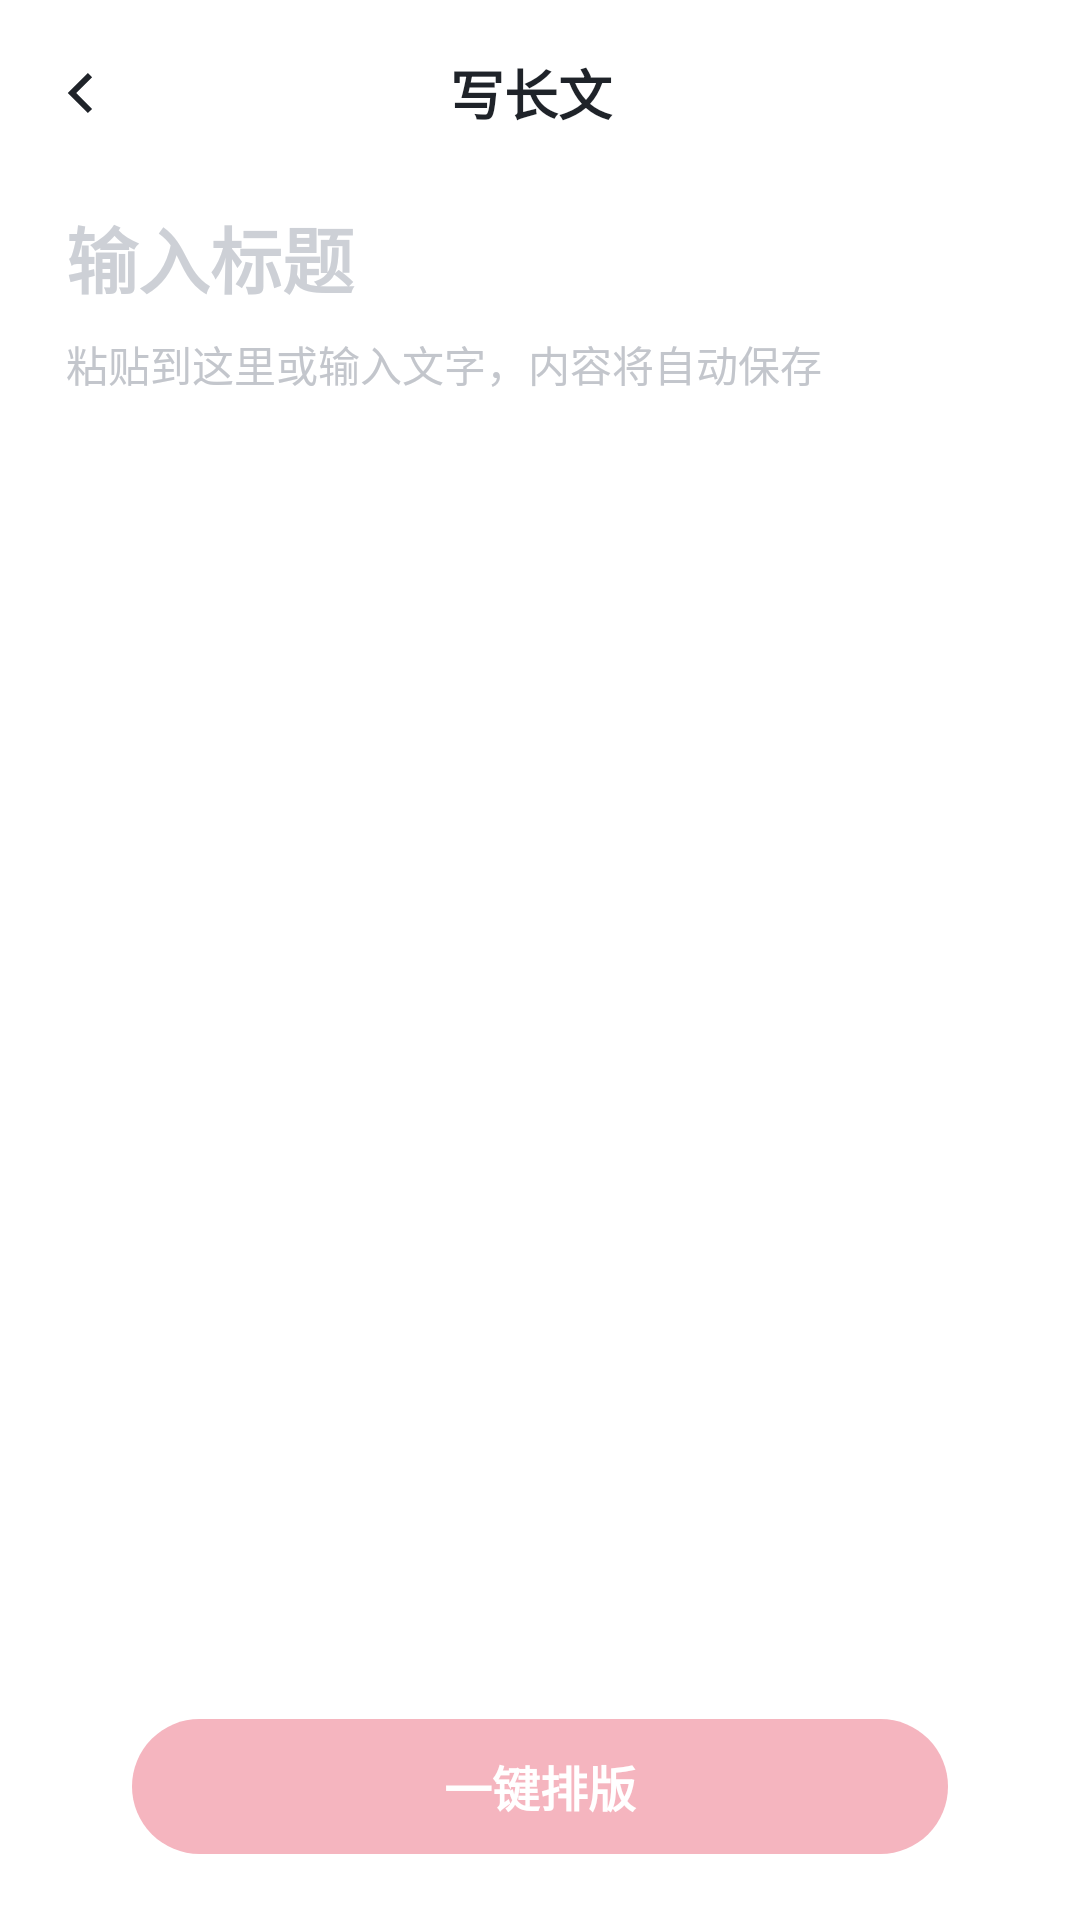

Icon bounding boxes for this 1080 x 1920 phone screenshot, format Rect(x1, y1, x2, y2):
返回: Rect(68, 73, 92, 113)
